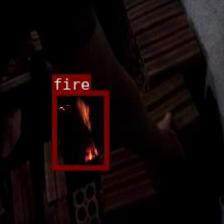fire: (51, 90, 108, 169)
